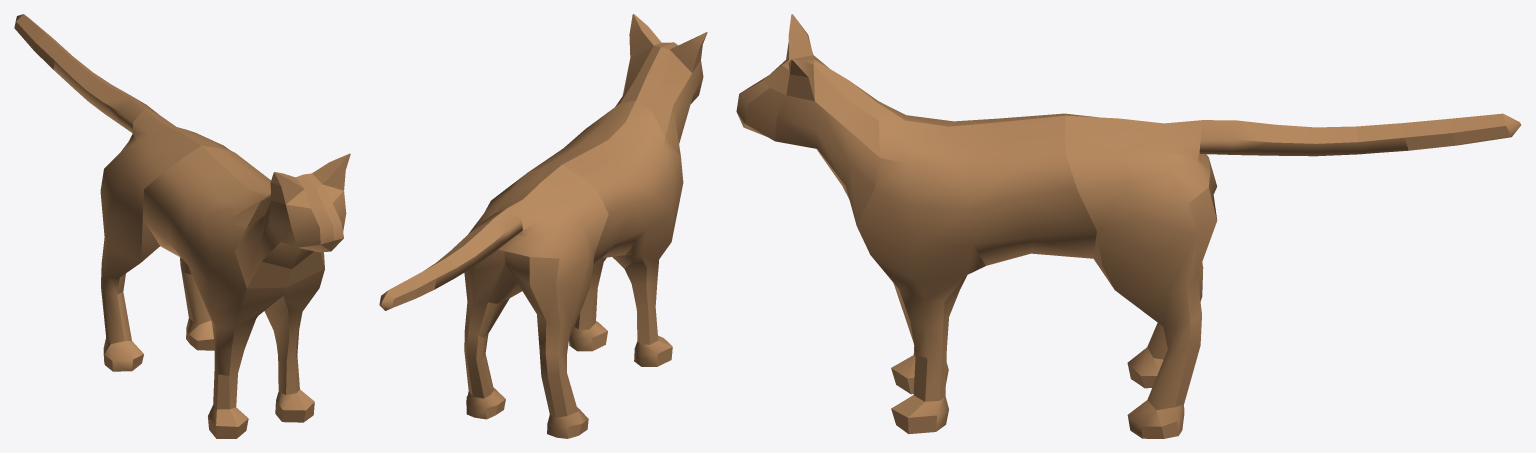
Rendered from CatModel.fbx.
3 renders of one model, left to right at view 1: azimuth 30°, elevation 25°; view 2: azimuth 150°, elevation 25°; view 3: azimuth 270°, elevation 25°, orthographic. The views are drawn at different scales.
Visible parts, largest first — view 1: CatMesh2; view 2: CatMesh2; view 3: CatMesh2.
Part boxes in pixels (x1,y1,x2,y2): CatMesh2: (14, 14, 350, 438); CatMesh2: (379, 14, 707, 438); CatMesh2: (736, 14, 1521, 438).
Size of the model in its own units: 4.74 by 11.5 by 22.22.
